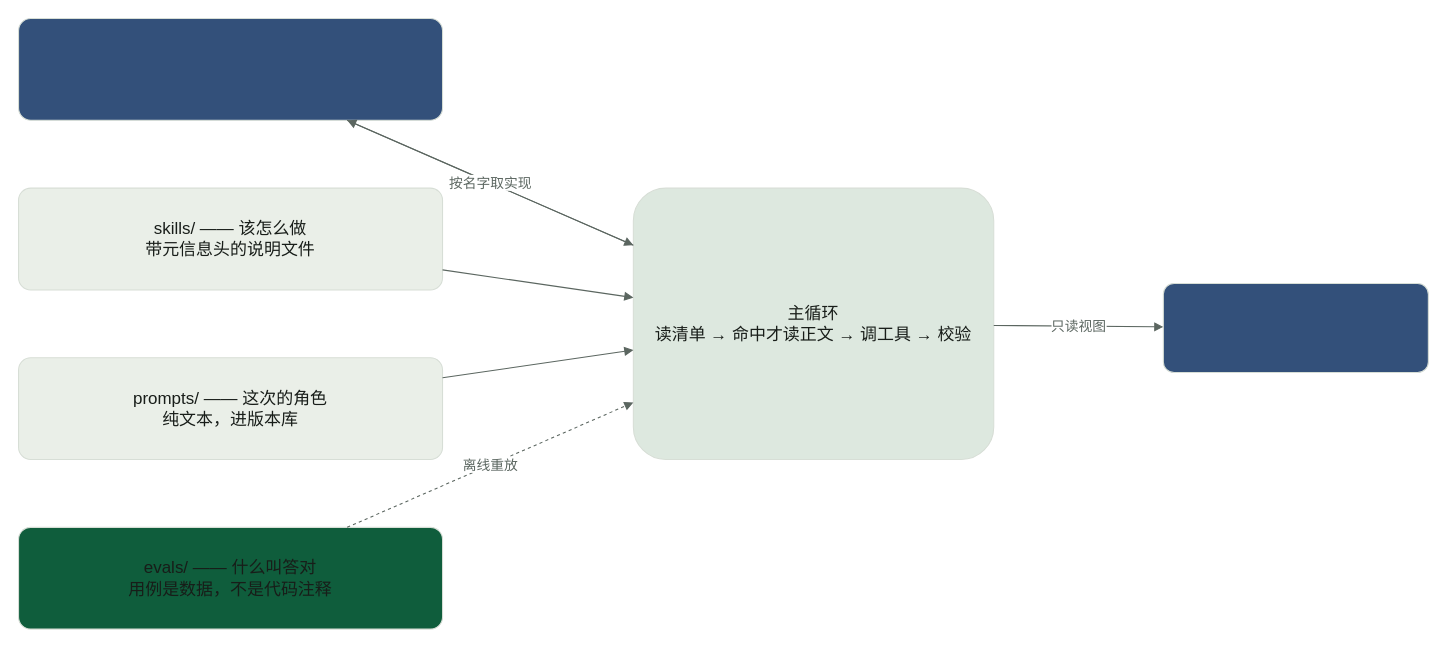
This 1447x648 diagram has some shape labels left out. Each missing label, with the centre of its shape:
tools/ —— 能做什么 描述 + 实现 + 权限元数据: the point at 230,68
数据与外部接口: the point at 1295,327
